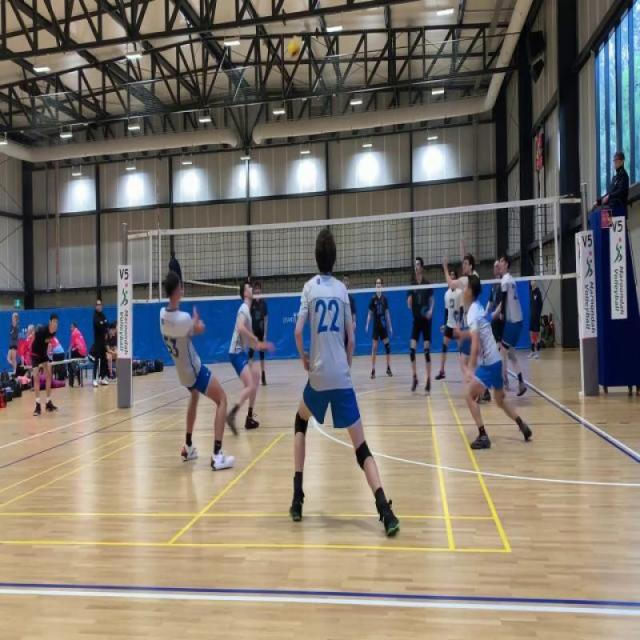volleyball: (286, 33, 301, 60)
